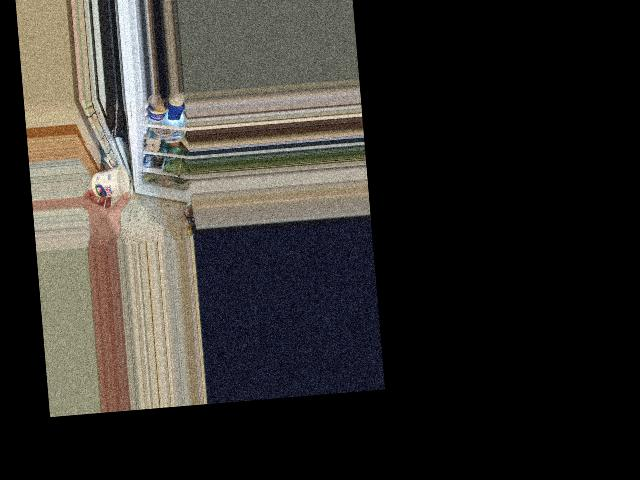cotage: (89, 162, 133, 204)
